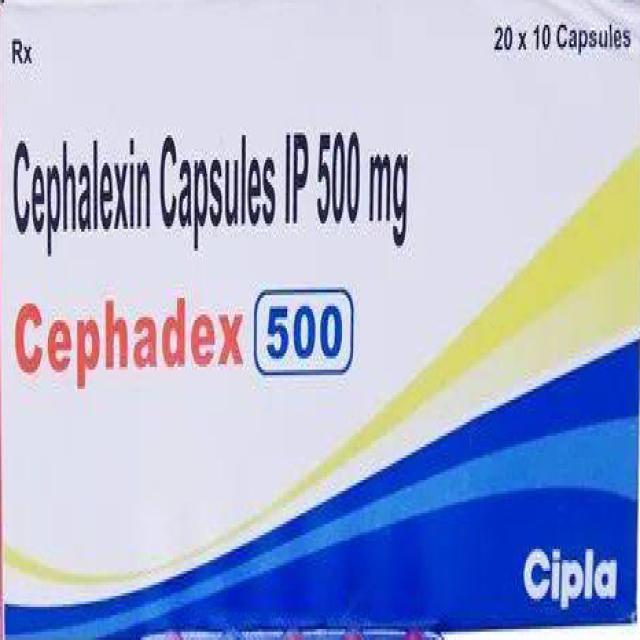drug-name: (12, 291, 346, 390)
